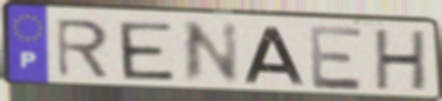A: (241, 25, 309, 88)
E: (306, 23, 367, 93), (115, 21, 178, 83)
H: (373, 28, 429, 94)
N: (180, 20, 243, 87)
R: (53, 17, 112, 80)
